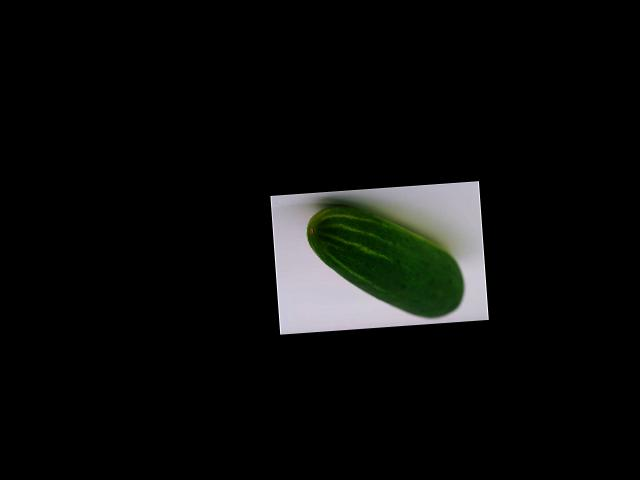cucumber: (305, 197, 466, 325)
